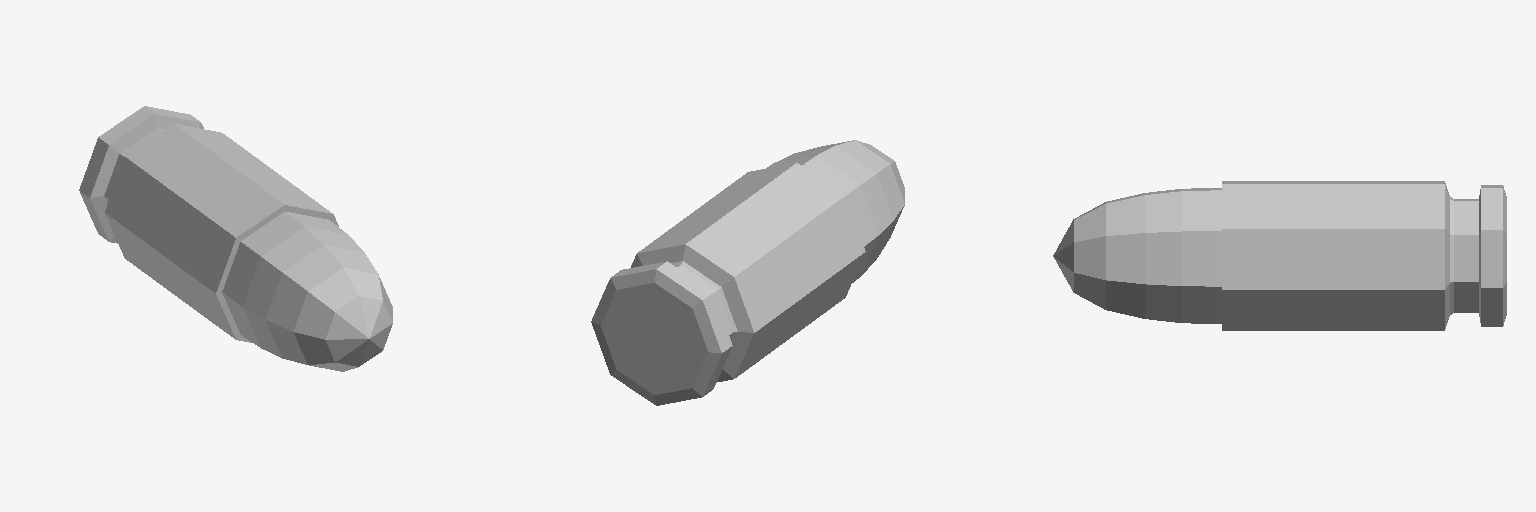
3 renders of one model, left to right at view 1: azimuth 30°, elevation 25°; view 2: azimuth 150°, elevation 25°; view 3: azimuth 270°, elevation 25°, orthographic.
Visible parts, largest first — view 1: bullet; view 2: bullet; view 3: bullet.
Part boxes in pixels (bbox=[...]): bullet: bbox=[79, 106, 392, 371]; bullet: bbox=[591, 140, 904, 405]; bullet: bbox=[1053, 181, 1506, 330].
Bounding box in the file's own units: 2 × 2 × 5.7.